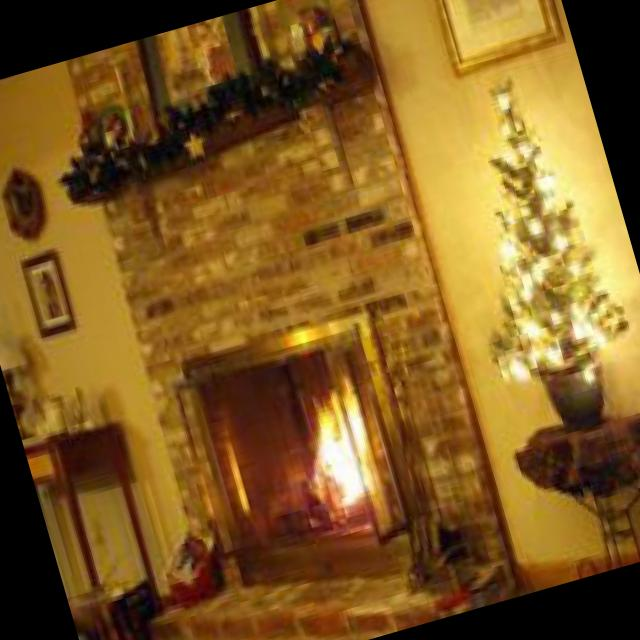fire: (284, 380, 379, 521)
